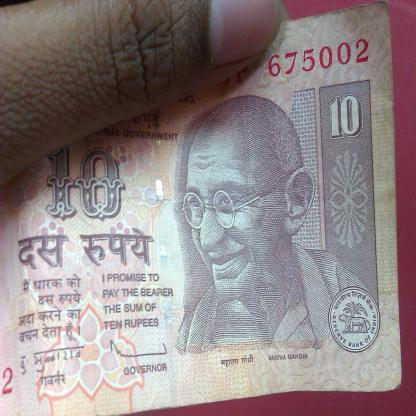Old10Front: (0, 2, 404, 415)
